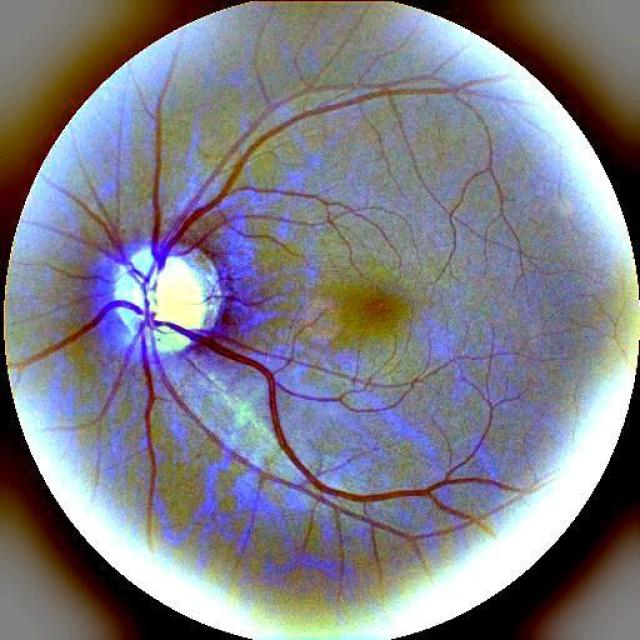Nerves: (150, 62, 456, 270), (181, 108, 264, 218), (355, 289, 398, 332)
Optic Disk: (11, 261, 539, 539), (114, 245, 222, 352), (45, 180, 118, 239), (18, 210, 79, 241), (115, 306, 142, 342)
